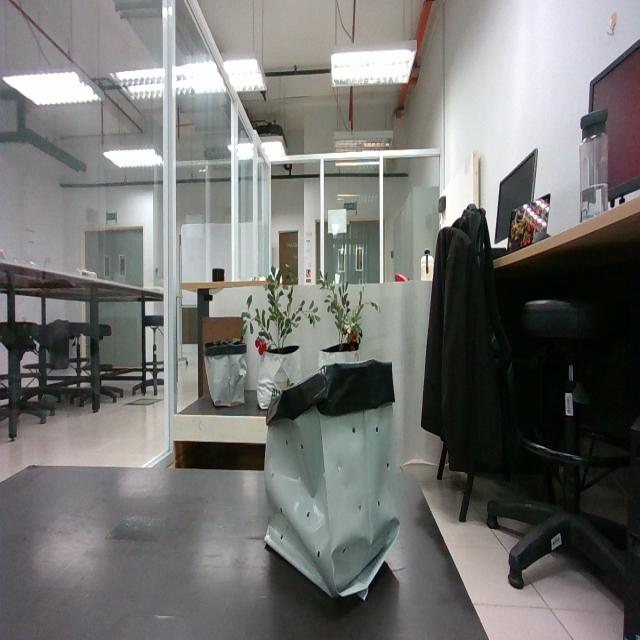Soilbag: (263, 364, 400, 601)
